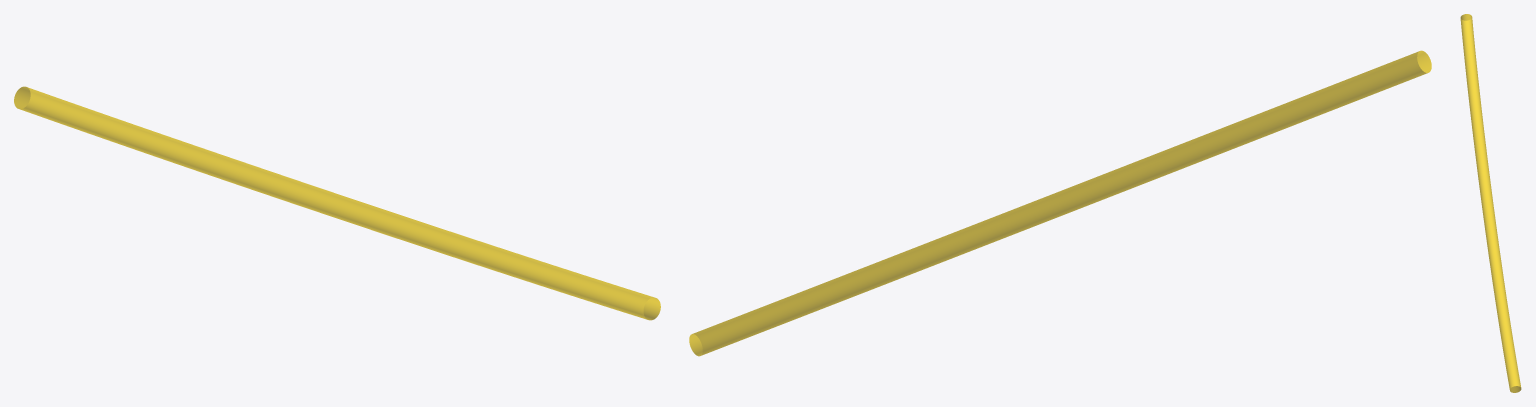
The model's file is Event_40932208_track_1.fbx.
The picture shows the model from 3 angles, left to right: view 1: azimuth 30°, elevation 25°; view 2: azimuth 150°, elevation 25°; view 3: azimuth 270°, elevation 25°; orthographic projection. The views are drawn at different scales.
Parts seen in each view (by area): view 1: Model; view 2: Model; view 3: Model.
Boxes of the visible parts, left/top/right/bottom form: Model: left=14, top=86, right=660, bottom=320; Model: left=689, top=50, right=1431, bottom=356; Model: left=1460, top=14, right=1521, bottom=392.
Bounding box in the file's own units: 1.35 × 0.8076 × 0.207.
